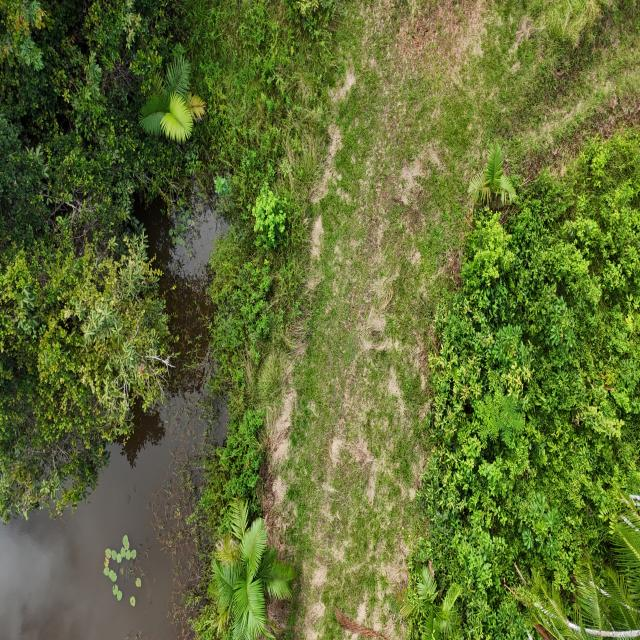vegetation: (401, 126, 639, 638)
